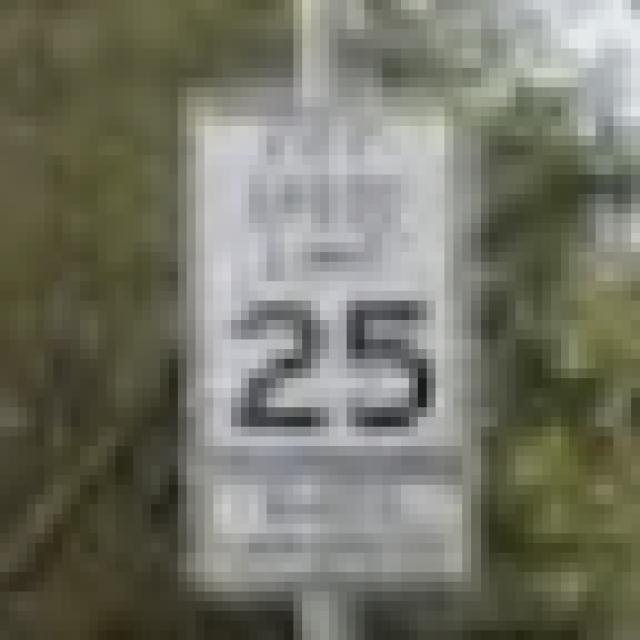speedLimit25: (181, 88, 466, 464)
